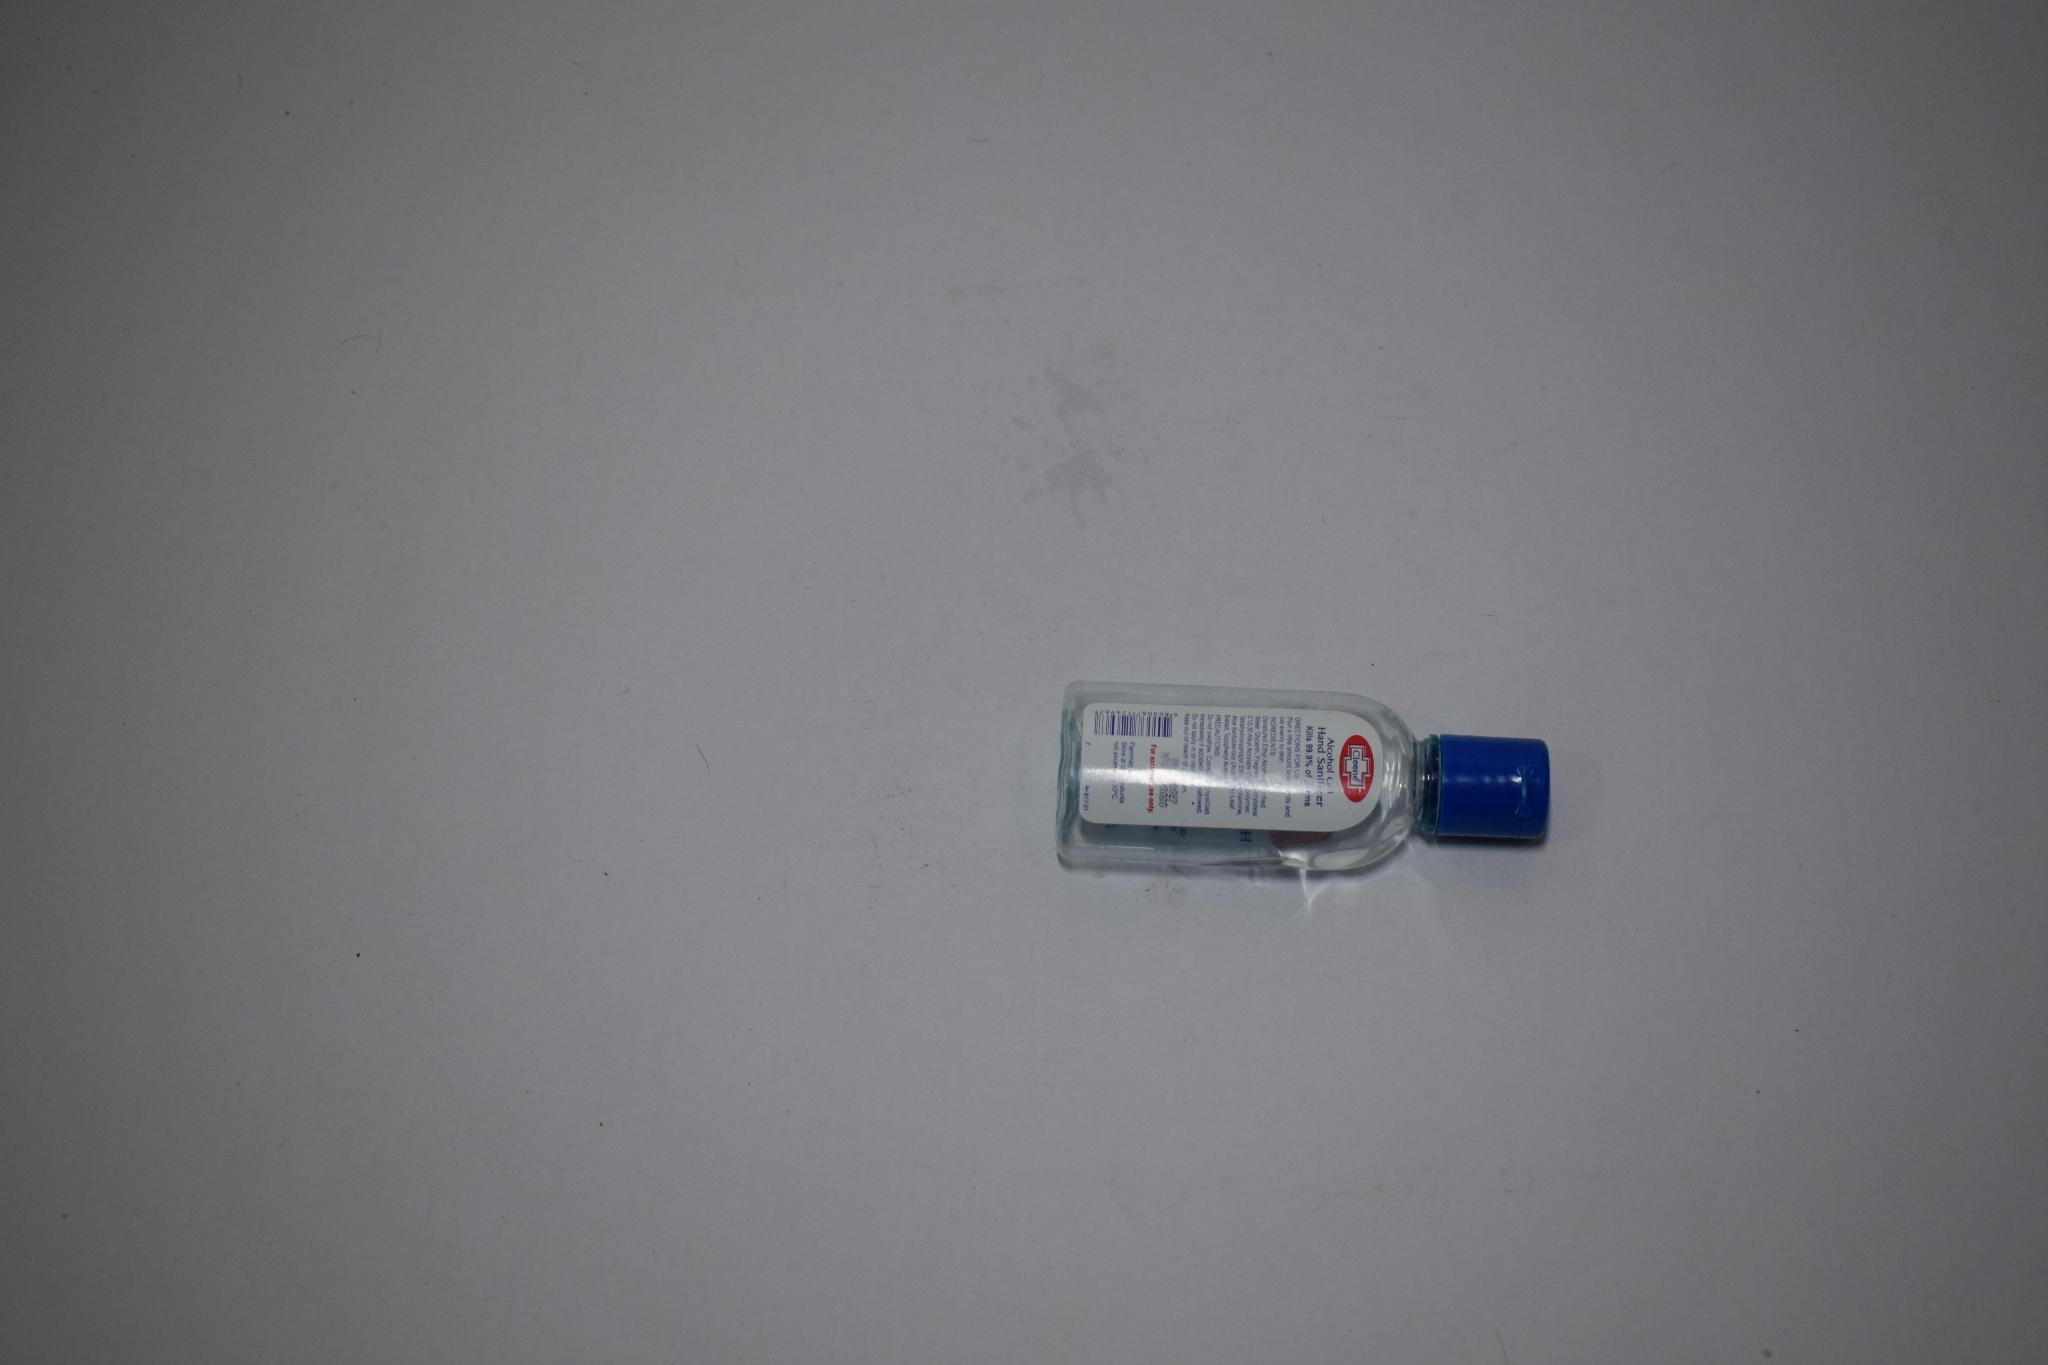bottle: (1024, 664, 1580, 886)
